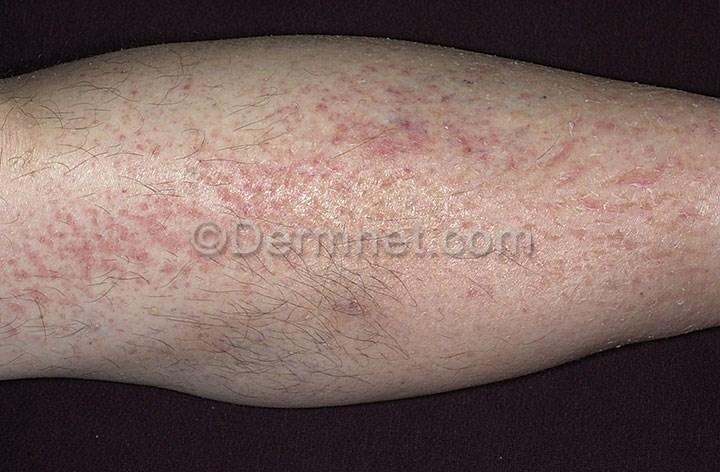Eczema: (510, 117, 612, 241), (368, 85, 468, 192), (620, 144, 704, 271), (166, 185, 258, 288), (222, 143, 319, 231), (114, 126, 221, 204), (49, 207, 134, 299), (265, 77, 371, 149), (419, 193, 526, 262), (450, 94, 522, 193), (445, 263, 524, 350), (0, 239, 67, 339), (533, 257, 607, 347), (120, 195, 187, 292), (309, 135, 378, 228), (632, 100, 720, 164), (419, 40, 508, 102), (614, 261, 682, 340), (354, 34, 421, 96), (543, 76, 634, 117), (147, 71, 219, 121), (98, 71, 159, 126), (693, 168, 720, 250), (72, 138, 112, 189), (370, 338, 373, 338)
